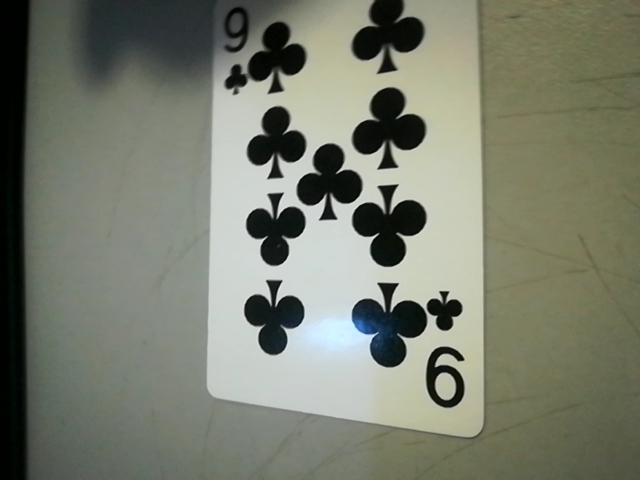mh 9: (414, 287, 481, 415)
